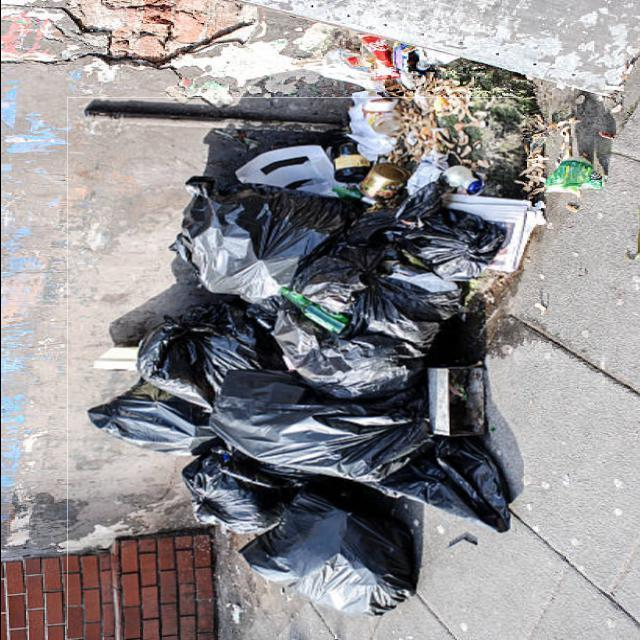Trashbag: (318, 196, 494, 344), (246, 494, 413, 616), (212, 388, 429, 474), (190, 178, 332, 300), (137, 305, 258, 401), (277, 316, 405, 394), (95, 383, 199, 462), (181, 452, 269, 538)
